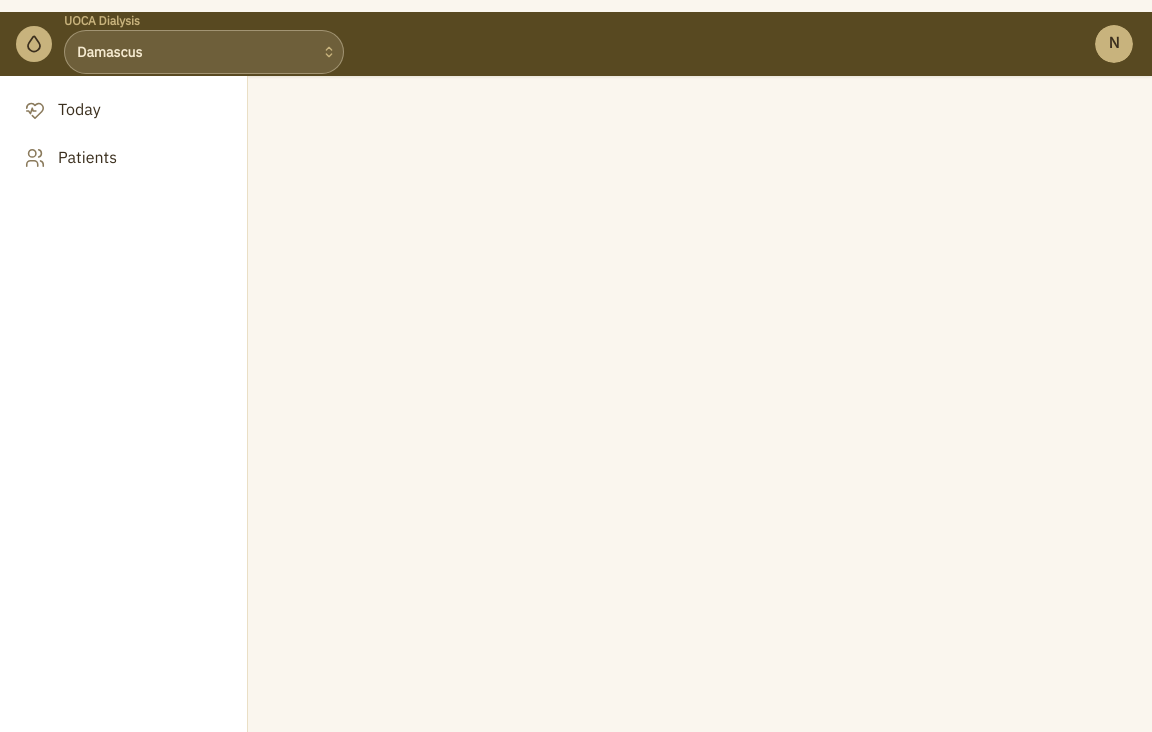
it: AppShell › shows a centre switcher when the user has more than one centre
Click the field named "Centre".
click(204, 52)  # box [64, 30, 344, 74]
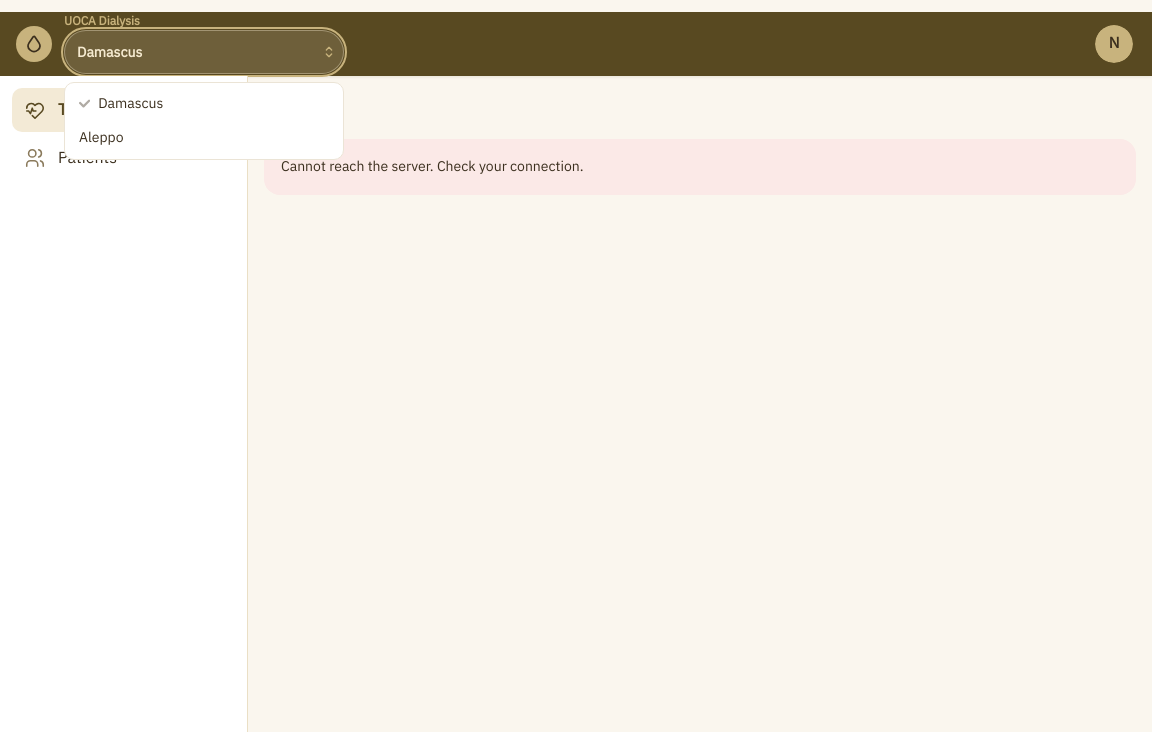
Expected: the option "Aleppo" is shown, [79, 127, 124, 148]
